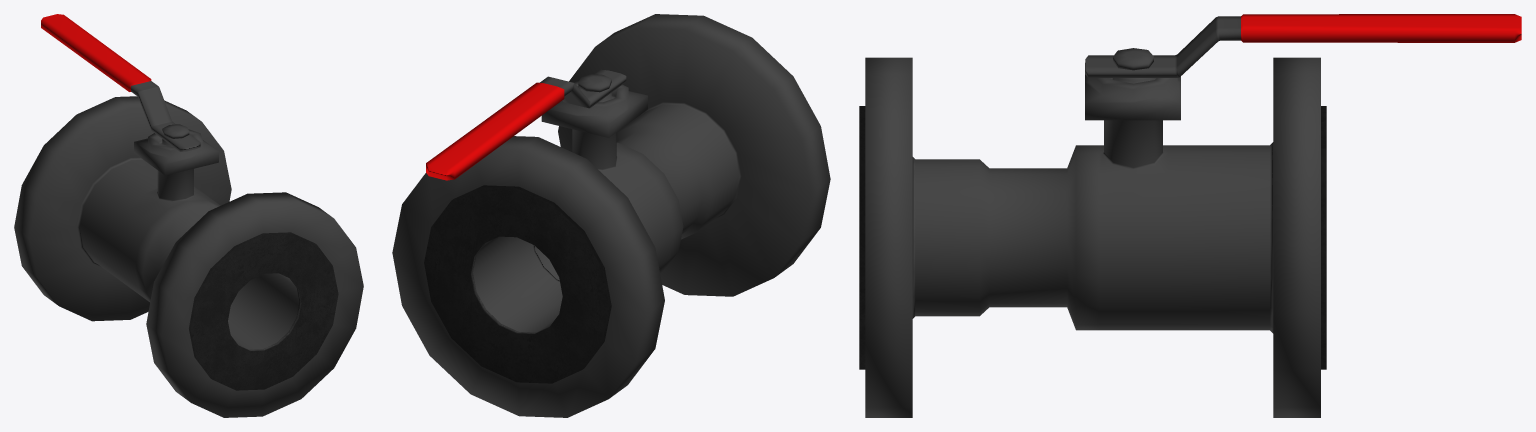
3 views of the same model, side by side, from view 1: azimuth 30°, elevation 25°; view 2: azimuth 150°, elevation 25°; view 3: azimuth 270°, elevation 25° (orthographic). The views are drawn at different scales.
Visible parts, largest first — view 1: vanne, manette; view 2: vanne, manette; view 3: vanne, manette.
Boxes of the visible parts, x1,y1,x2,y2 form: vanne: (14, 96, 363, 417); manette: (41, 14, 200, 151); vanne: (392, 14, 830, 417); manette: (426, 69, 626, 281); vanne: (859, 48, 1326, 417); manette: (1085, 14, 1521, 77).
Size of the model in its own units: 2 by 2.33 by 3.67.
3 materials, 1 textured.
